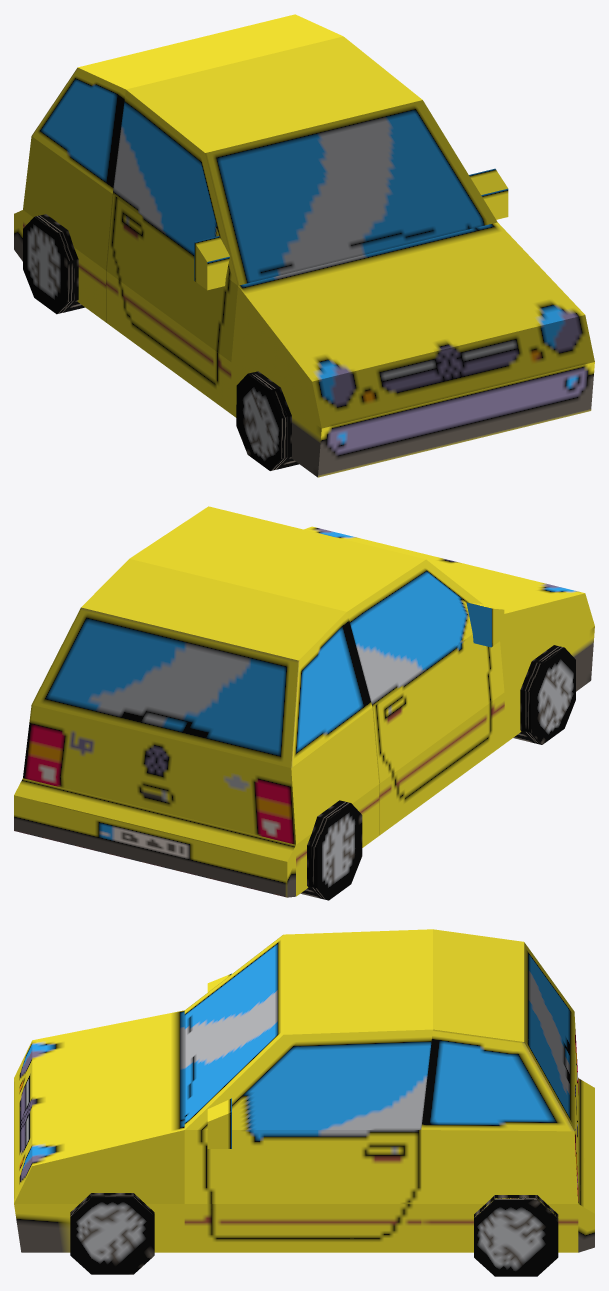
The model's file is lupo7.obj.
3 views of the same model, one above another, from view 1: azimuth 30°, elevation 25°; view 2: azimuth 150°, elevation 25°; view 3: azimuth 270°, elevation 25° (orthographic). The views are drawn at different scales.
Parts seen in each view (by area): view 1: lupo7; view 2: lupo7; view 3: lupo7.
Boxes of the visible parts, x1,y1,x2,y2 form: lupo7: (14, 14, 594, 477); lupo7: (14, 506, 594, 900); lupo7: (14, 929, 594, 1276).
Bounding box in the file's own units: 2.25 × 1.73 × 3.98.
1 material, 1 textured.
